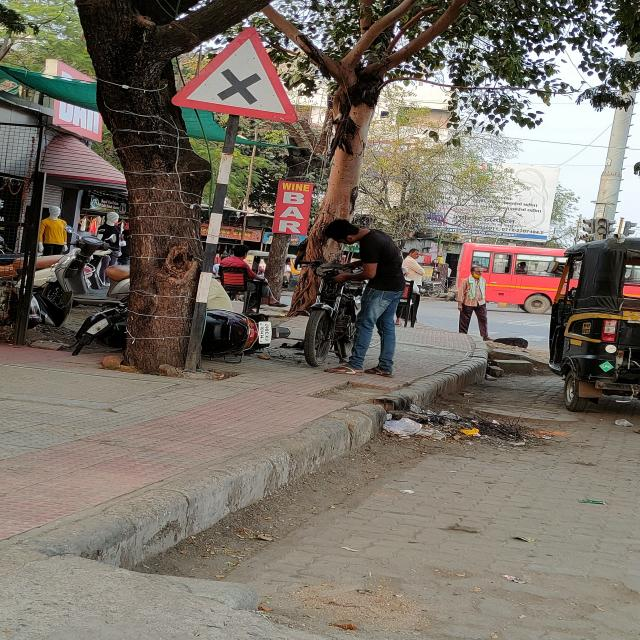CROSS_ROAD: (170, 25, 298, 124)
